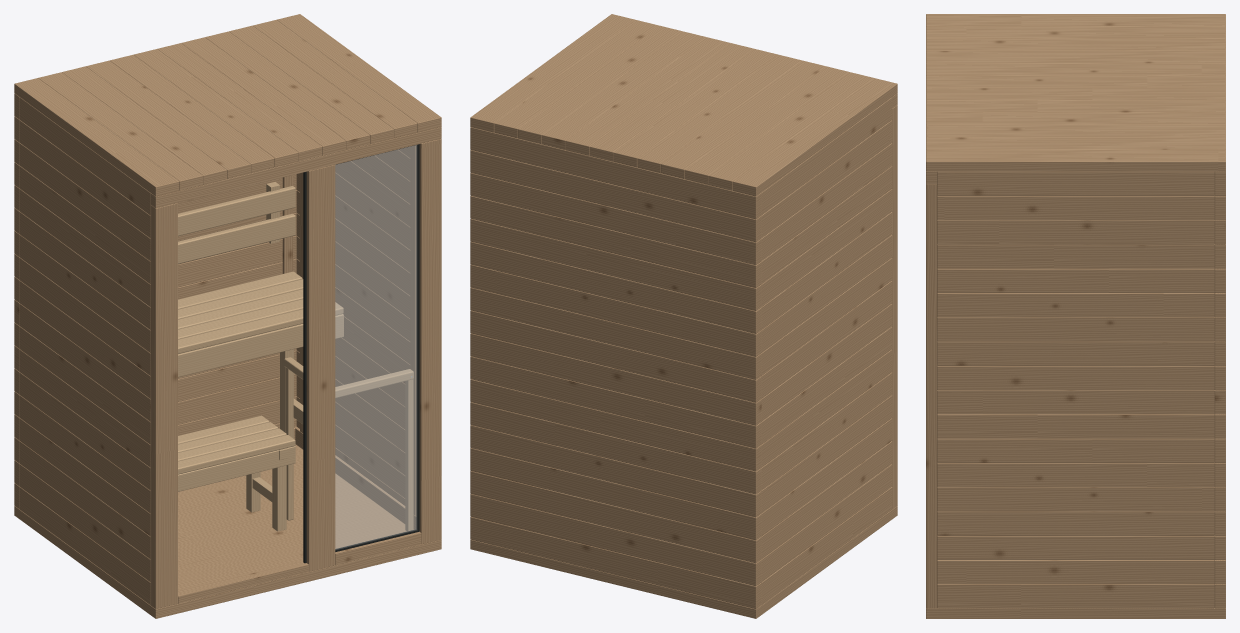
Rendered from base_cabin.glb.
The picture shows the model from 3 angles, left to right: view 1: azimuth 30°, elevation 25°; view 2: azimuth 150°, elevation 25°; view 3: azimuth 270°, elevation 25°; orthographic projection. The views are drawn at different scales.
Parts seen in each view (by area): view 1: base_cabin_front, base_cabin_left, base_cabin_roof, base_cabin_right, base_cabin_seating, base_cabin_floor, base_cabin_back, base_cabin_heater guard; view 2: base_cabin_back, base_cabin_left, base_cabin_roof, base_cabin_floor, base_cabin_front; view 3: base_cabin_right, base_cabin_roof, base_cabin_front, base_cabin_back, base_cabin_floor.
Boxes of the visible parts, left/top/right/bottom form: base_cabin_front: left=150, top=127, right=441, bottom=608; base_cabin_left: left=19, top=97, right=150, bottom=604; base_cabin_roof: left=14, top=14, right=441, bottom=196; base_cabin_right: left=294, top=145, right=416, bottom=529; base_cabin_seating: left=178, top=182, right=343, bottom=531; base_cabin_floor: left=14, top=444, right=441, bottom=618; base_cabin_back: left=14, top=93, right=296, bottom=509; base_cabin_heater guard: left=284, top=357, right=413, bottom=530; base_cabin_back: left=470, top=127, right=761, bottom=608; base_cabin_left: left=761, top=97, right=892, bottom=604; base_cabin_roof: left=470, top=14, right=897, bottom=196; base_cabin_floor: left=470, top=506, right=897, bottom=618; base_cabin_front: left=892, top=93, right=897, bottom=509; base_cabin_right: left=937, top=171, right=1214, bottom=608; base_cabin_roof: left=926, top=14, right=1225, bottom=171; base_cabin_front: left=926, top=171, right=937, bottom=608; base_cabin_back: left=1214, top=171, right=1225, bottom=608; base_cabin_floor: left=926, top=608, right=1225, bottom=618.
Bounding box in the file's own units: 1.4 × 2.02 × 1.2.
5 materials, 2 textured.
